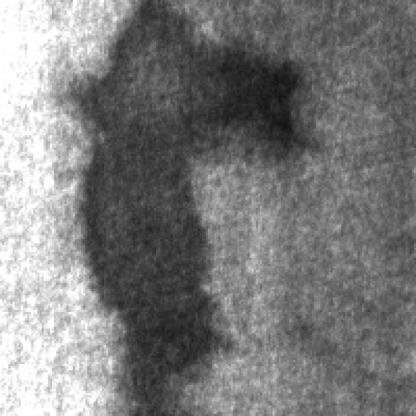patches: (77, 19, 239, 416), (200, 45, 322, 168)
